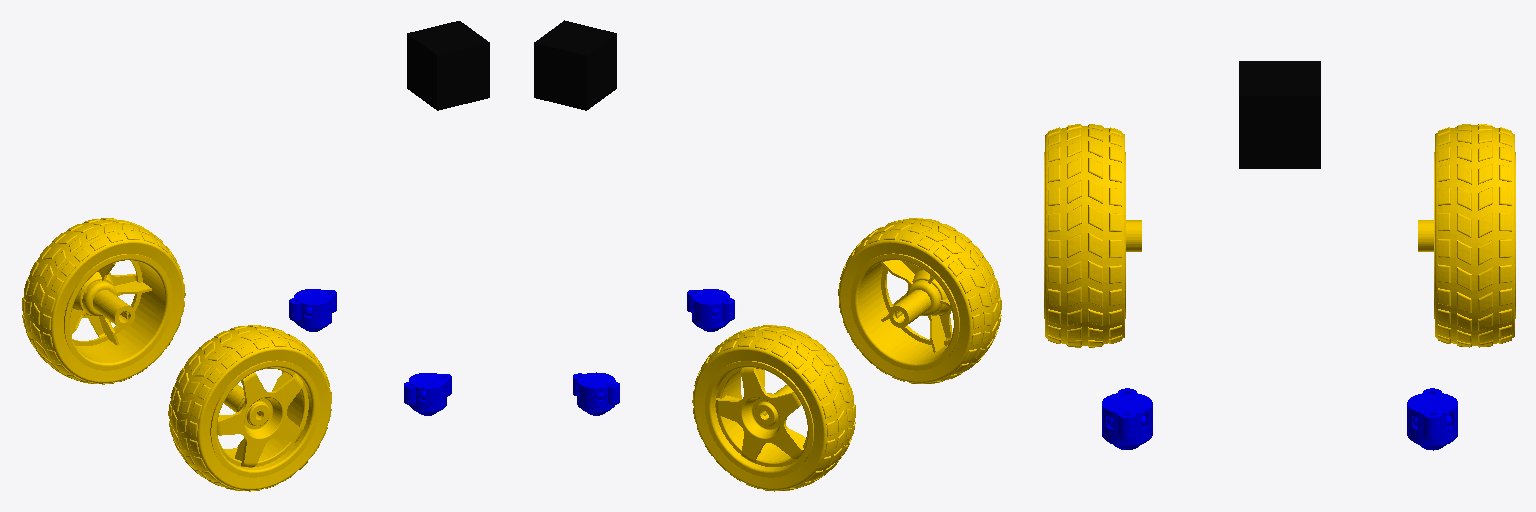
URDF robot description (my_robot):
<?xml version="1.0" ?>
<robot name="my_robot">
  <!-- centralized material definitions -->
  <material name="BallMaterial">
    <color rgba="1 0 0 1"/>
  </material>
  <material name="FieldMaterial">
    <color rgba="0 0.6 0 1"/>
  </material>
  <material name="RobotGrayMaterial">
    <color rgba="0 0 1 1"/>
  </material>
  <material name="WheelYellowMaterial">
    <color rgba="1 0.82 0 1"/>
  </material>
  <!-- ================= BASE ================= -->
  <link name="base_link">
    <inertial>
      <mass value="2.0"/>
      <origin rpy="0 0 0" xyz="-0.015 0 0"/>
      <inertia ixx="0.01" ixy="0" ixz="0" iyy="0.015" iyz="0" izz="0.02"/>
    </inertial>
    <visual>
      <origin rpy="0 0 1.5708" xyz="0 0 0"/>
      <geometry>
        <mesh filename="package://my_robot/description/meshes/ROBOT.stl" scale="0.001 0.001 0.001"/>
      </geometry>
      <material name="RobotGrayMaterial"/>
    </visual>
    <collision>
      <origin rpy="0 0 0" xyz="0 0 0.026"/>
      <geometry>
        <box size="0.099 0.086 0.05379345"/>
      </geometry>
    </collision>
  </link>
  <!-- ================= LEFT WHEEL ================= -->
  <link name="left_wheel">
    <inertial>
      <mass value="0.2"/>
      <origin rpy="0 0 0" xyz="0 0 0"/>
      <!-- IMPROVED INERTIA -->
      <inertia ixx="0.0002" ixy="0" ixz="0" iyy="0.0001" iyz="0" izz="0.0002"/>
    </inertial>
    <visual>
      <origin rpy="0 0 -1.5708" xyz="0 0 0"/>
      <geometry>
        <mesh filename="package://my_robot/description/meshes/Roda.stl" scale="0.001 0.001 0.001"/>
      </geometry>
      <material name="WheelYellowMaterial"/>
    </visual>
    <collision>
      <origin rpy="1.5708 0 0" xyz="0 0 0"/>
      <geometry>
        <cylinder length="0.025" radius="0.033"/>
      </geometry>
      <surface>
        <friction>
          <ode>
            <mu>1.0</mu>
            <mu2>1.3</mu2>
            <slip1>0.005</slip1>
            <slip2>0.005</slip2>
            <fdir1>1 0 0</fdir1>
          </ode>
        </friction>
      </surface>
    </collision>
  </link>
  <joint name="left_wheel_joint" type="continuous">
    <parent link="base_link"/>
    <child link="left_wheel"/>
    <origin rpy="0 0 0" xyz="-0.0537 0.068 0.014"/>
    <axis xyz="0 1 0"/>
    <dynamics damping="1.5" friction="0.0"/>
  </joint>
  <!-- ================= RIGHT WHEEL ================= -->
  <link name="right_wheel">
    <inertial>
      <mass value="0.2"/>
      <origin rpy="0 0 0" xyz="0 0 0"/>
      <!-- IMPROVED INERTIA -->
      <inertia ixx="0.0002" ixy="0" ixz="0" iyy="0.0001" iyz="0" izz="0.0002"/>
    </inertial>
    <visual>
      <origin rpy="0 0 1.5708" xyz="0 0 0"/>
      <geometry>
        <mesh filename="package://my_robot/description/meshes/Roda.stl" scale="0.001 0.001 0.001"/>
      </geometry>
      <material name="WheelYellowMaterial"/>
    </visual>
    <collision>
      <origin rpy="1.5708 0 0" xyz="0 0 0"/>
      <geometry>
        <cylinder length="0.025" radius="0.033"/>
      </geometry>
      <surface>
        <friction>
          <ode>
            <mu>1.0</mu>
            <mu2>1.3</mu2>
            <slip1>0.005</slip1>
            <slip2>0.005</slip2>
            <fdir1>1 0 0</fdir1>
          </ode>
        </friction>
      </surface>
    </collision>
  </link>
  <joint name="right_wheel_joint" type="continuous">
    <parent link="base_link"/>
    <child link="right_wheel"/>
    <origin rpy="0 0 0" xyz="-0.0537 -0.068 0.014"/>
    <axis xyz="0 1 0"/>
    <dynamics damping="1.5" friction="0.0"/>
  </joint>
  <link name="left_caster_wheel">
    <inertial>
      <mass value="0.02"/>
      <origin rpy="0 0 0" xyz="0 0 0"/>
      <inertia ixx="0.000002" ixy="0" ixz="0" iyy="0.000002" iyz="0" izz="0.000002"/>
    </inertial>
    <visual>
      <origin rpy="0 0 0" xyz="0 0 0"/>
      <geometry>
        <mesh filename="package://my_robot/description/meshes/freewheel.dae" scale="1.0 1.0 1.0"/>
      </geometry>
      <material name="RobotGrayMaterial"/>
    </visual>
    <collision>
      <origin rpy="0 0 0" xyz="0 0 -0.01"/>
      <geometry>
        <sphere radius="0.006"/>
      </geometry>
      <surface>
        <friction>
          <ode>
            <mu>0.01</mu>
            <mu2>0.01</mu2>
            <slip1>0.15</slip1>
            <slip2>0.15</slip2>
          </ode>
        </friction>
      </surface>
    </collision>
  </link>
  <joint name="left_caster_joint" type="fixed">
    <parent link="base_link"/>
    <child link="left_caster_wheel"/>
    <origin rpy="0 0 0" xyz="0.038 0.047 0.0"/>
  </joint>
  <link name="right_caster_wheel">
    <inertial>
      <mass value="0.02"/>
      <origin rpy="0 0 0" xyz="0 0 0"/>
      <inertia ixx="0.000002" ixy="0" ixz="0" iyy="0.000002" iyz="0" izz="0.000002"/>
    </inertial>
    <visual>
      <origin rpy="0 0 0" xyz="0 0 0"/>
      <geometry>
        <mesh filename="package://my_robot/description/meshes/freewheel.dae" scale="1.0 1.0 1.0"/>
      </geometry>
      <material name="RobotGrayMaterial"/>
    </visual>
    <collision>
      <origin rpy="0 0 0" xyz="0 0 -0.01"/>
      <geometry>
        <sphere radius="0.006"/>
      </geometry>
      <surface>
        <friction>
          <ode>
            <mu>0.01</mu>
            <mu2>0.01</mu2>
            <slip1>0.15</slip1>
            <slip2>0.15</slip2>
          </ode>
        </friction>
      </surface>
    </collision>
  </link>
  <joint name="right_caster_joint" type="fixed">
    <parent link="base_link"/>
    <child link="right_caster_wheel"/>
    <origin rpy="0 0 0" xyz="0.038 -0.047 0.0"/>
  </joint>
  <!-- ================= IMU ================= -->
  <link name="imu_link">
    <inertial>
      <mass value="0.01"/>
      <origin rpy="0 0 0" xyz="0 0 0"/>
      <inertia ixx="0.000001" ixy="0" ixz="0" iyy="0.000001" iyz="0" izz="0.000001"/>
    </inertial>
  </link>
  <joint name="imu_joint" type="fixed">
    <parent link="base_link"/>
    <child link="imu_link"/>
    <origin rpy="0 0 0" xyz="0.033 0.0 0.024"/>
  </joint>
  <link name="camera_link">
    <inertial>
      <mass value="0.05"/>
      <origin rpy="0 0 0" xyz="0 0 0"/>
      <inertia ixx="0.00001" ixy="0" ixz="0" iyy="0.00001" iyz="0" izz="0.00001"/>
    </inertial>
    <visual>
      <geometry>
        <box size="0.025 0.025 0.025"/>
      </geometry>
      <material name="CameraMaterial">
        <color rgba="0.05 0.05 0.05 1"/>
      </material>
    </visual>
  </link>
  <joint name="camera_joint" type="fixed">
    <parent link="base_link"/>
    <child link="camera_link"/>
    <origin rpy="0 0 0" xyz="0.075 0 0.115"/>
  </joint>
  <gazebo reference="imu_link">
    <sensor name="imu_sensor" type="imu">
      <always_on>true</always_on>
      <update_rate>100</update_rate>
      <topic>/imu</topic>
      <imu>
        <angular_velocity>
          <x>
            <noise type="gaussian">
              <mean>0.0</mean>
              <stddev>0.0002</stddev>
            </noise>
          </x>
          <y>
            <noise type="gaussian">
              <mean>0.0</mean>
              <stddev>0.0002</stddev>
            </noise>
          </y>
          <z>
            <noise type="gaussian">
              <mean>0.0</mean>
              <stddev>0.0002</stddev>
            </noise>
          </z>
        </angular_velocity>
        <linear_acceleration>
          <x>
            <noise type="gaussian">
              <mean>0.0</mean>
              <stddev>0.017</stddev>
            </noise>
          </x>
          <y>
            <noise type="gaussian">
              <mean>0.0</mean>
              <stddev>0.017</stddev>
            </noise>
          </y>
          <z>
            <noise type="gaussian">
              <mean>0.0</mean>
              <stddev>0.017</stddev>
            </noise>
          </z>
        </linear_acceleration>
      </imu>
    </sensor>
  </gazebo>
  <gazebo reference="camera_link">
    <sensor name="front_camera" type="camera">
      <always_on>true</always_on>
      <update_rate>30</update_rate>
      <visualize>true</visualize>
      <topic>/camera/image_raw</topic>
      <camera>
        <horizontal_fov>1.047</horizontal_fov>
        <image>
          <width>640</width>
          <height>480</height>
          <format>R8G8B8</format>
        </image>
        <clip>
          <near>0.05</near>
          <far>100</far>
        </clip>
      </camera>
    </sensor>
  </gazebo>
  <gazebo>
    <plugin filename="gz-sim-diff-drive-system" name="gz::sim::systems::DiffDrive">
      <left_joint>left_wheel_joint</left_joint>
      <right_joint>right_wheel_joint</right_joint>
      <wheel_separation>0.104</wheel_separation>
      <wheel_radius>0.033</wheel_radius>
      <max_linear_velocity>1.0</max_linear_velocity>
      <max_angular_velocity>2.0</max_angular_velocity>
      <linear_acceleration_limit>1.0</linear_acceleration_limit>
      <angular_acceleration_limit>2.0</angular_acceleration_limit>
      <topic>/cmd_vel</topic>
      <odom_topic>/odom</odom_topic>
      <tf_topic>/tf</tf_topic>
      <frame_id>map</frame_id>
      <child_frame_id>base_link</child_frame_id>
      <publish_wheel_tf>false</publish_wheel_tf>
      <publish_odom_tf>false</publish_odom_tf>
    </plugin>
    <plugin filename="gz-sim-linearbatteryplugin-system" name="gz::sim::systems::LinearBatteryPlugin">
      <!--Li-ion battery spec from LIR18650 datasheet-->
      <battery_name>linear_battery</battery_name>
      <voltage>4.2</voltage>
      <open_circuit_voltage_constant_coef>4.2</open_circuit_voltage_constant_coef>
      <open_circuit_voltage_linear_coef>-2.0</open_circuit_voltage_linear_coef>
      <initial_charge>2.5</initial_charge>
      <capacity>2.5 </capacity>
      <resistance>0.07</resistance>
      <smooth_current_tau>2.0</smooth_current_tau>
      <enable_recharge>false</enable_recharge>
      <charging_time>3.0</charging_time>
      <soc_threshold>0.51</soc_threshold>
      <!-- Consumer-specific -->
      <power_load>2.1</power_load>
      <start_on_motion>true</start_on_motion>
    </plugin>
  </gazebo>
</robot>

--- Render facts (derived) ---
3 views of the same robot in one strip: view 1: azimuth 30°, elevation 25°; view 2: azimuth 150°, elevation 25°; view 3: azimuth 270°, elevation 25° (orthographic).
Model my_robot with 7 links and 6 joints (2 continuous, 4 fixed), rooted at base_link, posed all joints at 0.
Visible links, largest first — view 1: right_wheel, left_wheel, camera_link, right_caster_wheel, left_caster_wheel; view 2: left_wheel, right_wheel, camera_link, right_caster_wheel, left_caster_wheel; view 3: left_wheel, right_wheel, camera_link, left_caster_wheel, right_caster_wheel.
Boxes of the visible links, left/top/right/bottom form: right_wheel: left=168, top=325, right=331, bottom=491; left_wheel: left=22, top=218, right=185, bottom=384; camera_link: left=407, top=21, right=489, bottom=110; right_caster_wheel: left=404, top=373, right=451, bottom=415; left_caster_wheel: left=289, top=289, right=336, bottom=331; left_wheel: left=692, top=325, right=855, bottom=491; right_wheel: left=838, top=218, right=1001, bottom=383; camera_link: left=534, top=20, right=616, bottom=110; right_caster_wheel: left=687, top=289, right=734, bottom=331; left_caster_wheel: left=573, top=372, right=619, bottom=415; left_wheel: left=1418, top=124, right=1515, bottom=347; right_wheel: left=1044, top=124, right=1141, bottom=347; camera_link: left=1239, top=61, right=1320, bottom=168; left_caster_wheel: left=1407, top=388, right=1457, bottom=450; right_caster_wheel: left=1102, top=388, right=1152, bottom=449.
Bounding box of the posed robot: 0.1757 × 0.145 × 0.1479 m (x, y, z).
4 mesh visuals loaded from 3 distinct referenced files (1 binary STL, 1 Collada DAE); not drawn: 1 (reference not matched to a file when rendering).
